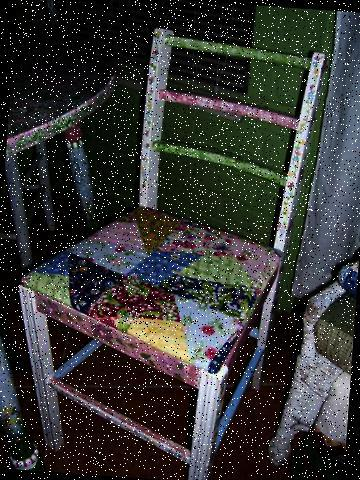Silla: (12, 29, 337, 479)
